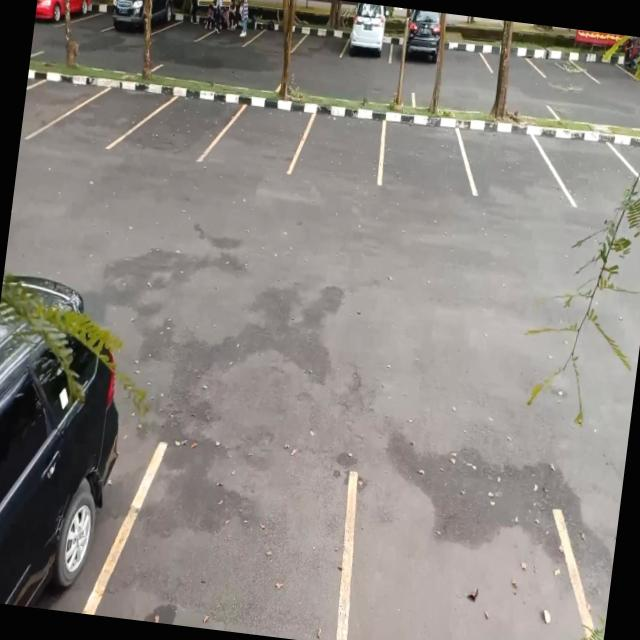car: (345, 2, 398, 62), (398, 21, 444, 68)
free: (89, 437, 364, 640), (332, 478, 600, 640), (30, 74, 175, 160), (105, 82, 242, 168), (454, 122, 572, 208), (525, 128, 640, 213), (203, 96, 310, 176), (373, 115, 472, 198), (296, 107, 390, 188), (21, 72, 102, 146), (294, 23, 346, 59), (440, 38, 490, 72)
